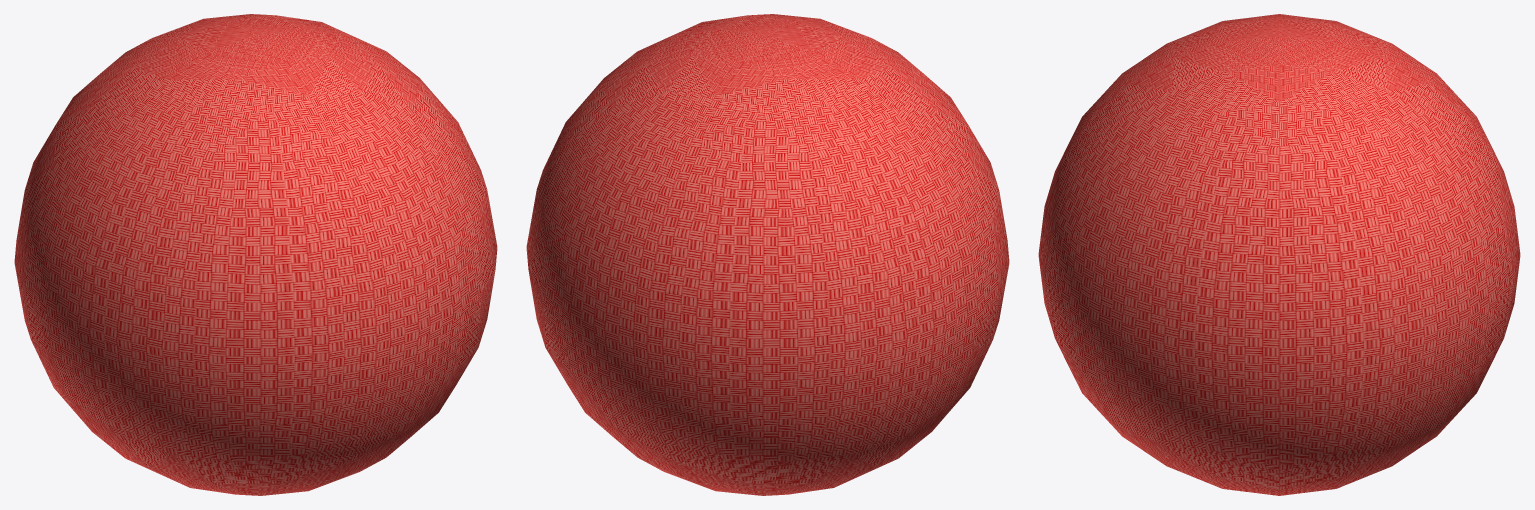
File: Kickball.FBX
3 views of the same model, side by side, from view 1: azimuth 30°, elevation 25°; view 2: azimuth 150°, elevation 25°; view 3: azimuth 270°, elevation 25° (orthographic).
Parts seen in each view (by area): view 1: Kickball; view 2: Kickball; view 3: Kickball.
Boxes of the visible parts, x1,y1,x2,y2 form: Kickball: (14,14,497,495); Kickball: (526,14,1009,495); Kickball: (1038,14,1520,495).
Size of the model in its own units: 200 by 200 by 200.
Materials: 1 (1 with a texture image).
